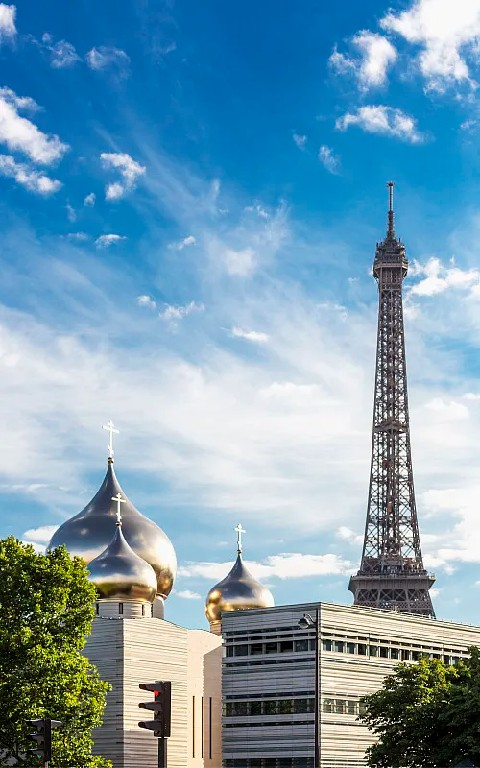Eiffel: (348, 181, 437, 618)
